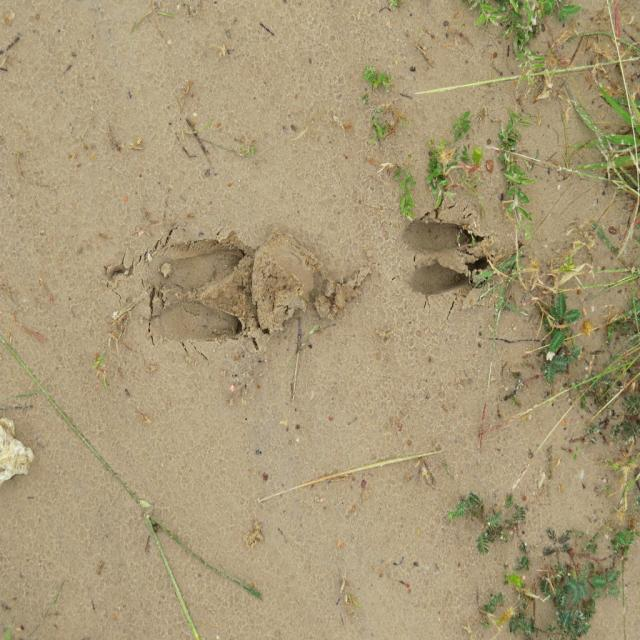deer: (146, 235, 248, 346), (401, 218, 491, 293)
